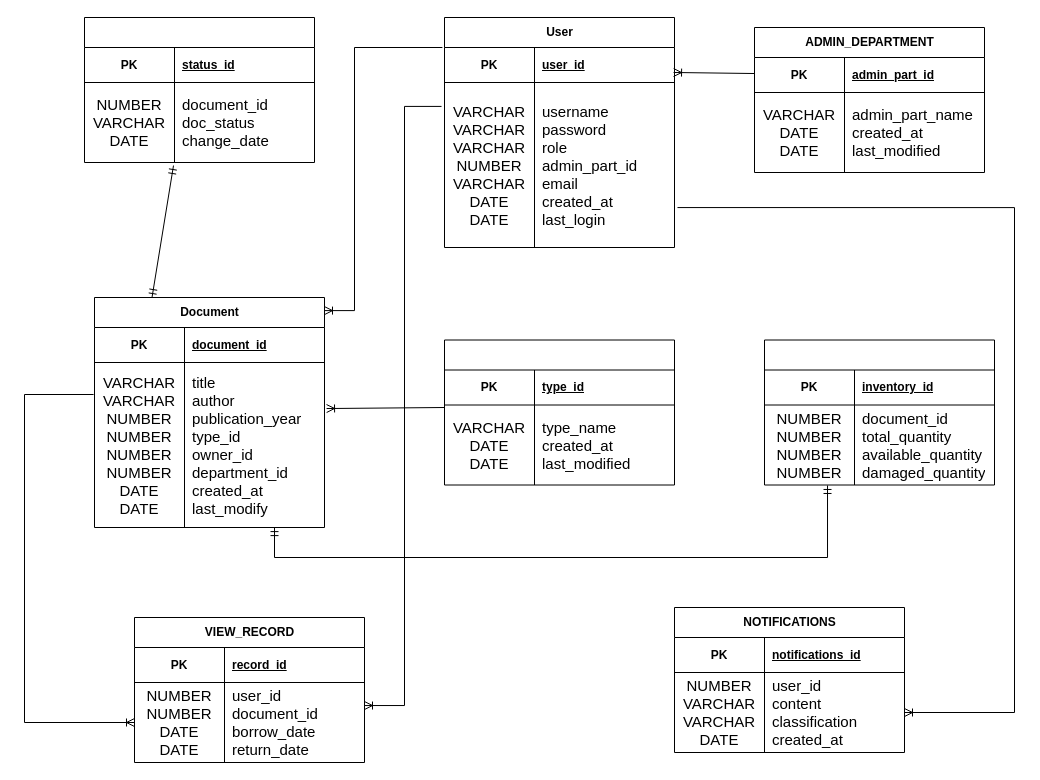
Some shapes in this 1040 by 780 pixel diagram are drawn without their labels. Here are the shapes that lost their labels. From the top down, the box of each, then its label:
(84, 16, 314, 162): DOCUMENT_STATUS
(444, 339, 674, 485): DOCUMENT_TYPE
(764, 339, 994, 485): BOOK_INVENTORY
